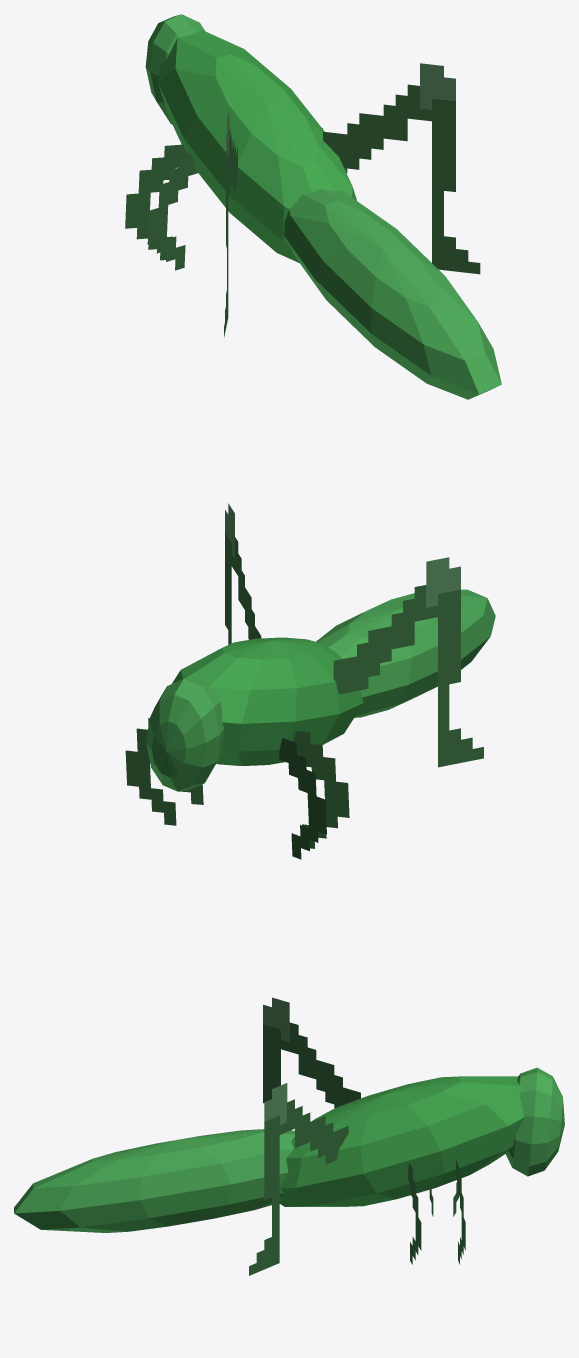
The model's file is grasshopper.gltf.
3 views of the same model, one above another, from view 1: azimuth 30°, elevation 25°; view 2: azimuth 150°, elevation 25°; view 3: azimuth 270°, elevation 25° (orthographic). The views are drawn at different scales.
Visible parts, largest first — view 1: tail (×2), body, leg (×2), plane (×2); view 2: tail (×2), body, leg (×2), plane (×3); view 3: tail (×2), body, leg (×2), plane.
Part boxes in pixels (<box>): tail (×2): <box>145,14,501,399</box>; body: <box>158,30,356,262</box>; leg (×2): <box>224,63,480,337</box>; plane (×2): <box>125,144,197,270</box>; tail (×2): <box>146,589,495,791</box>; body: <box>172,637,363,765</box>; leg (×2): <box>225,503,483,767</box>; plane (×3): <box>125,718,349,859</box>; tail (×2): <box>14,1067,564,1232</box>; body: <box>279,1076,524,1206</box>; leg (×2): <box>249,997,360,1275</box>; plane: <box>408,1162,421,1264</box>.
Size of the model in its own units: 1.14 by 0.7605 by 1.59.
4 materials, 4 textured.
